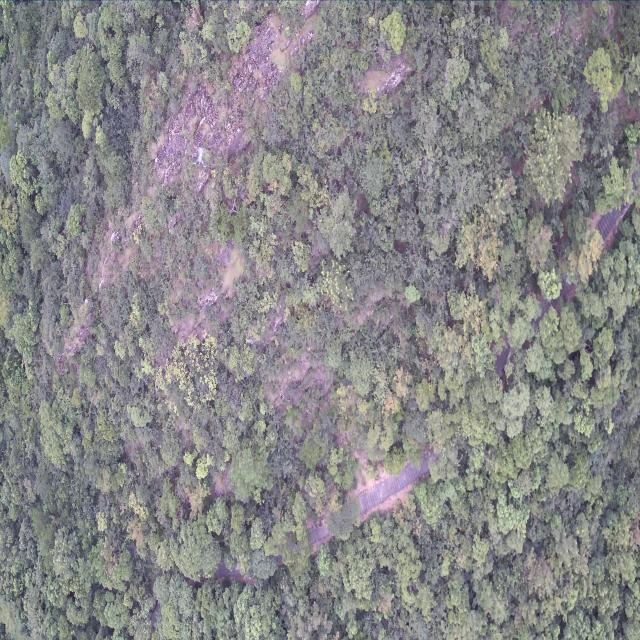UAV: (193, 144, 207, 168)
